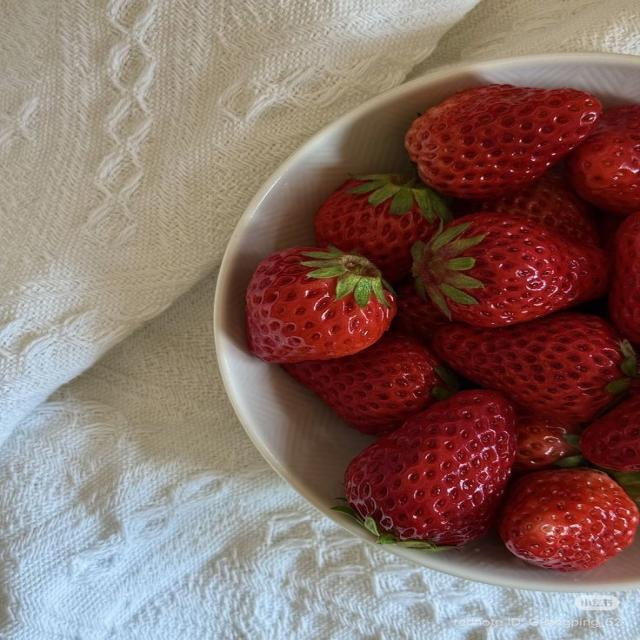strawberry: (345, 390, 514, 548), (432, 312, 636, 422), (413, 213, 610, 326), (406, 85, 601, 198), (283, 333, 456, 435), (246, 248, 396, 362), (314, 175, 452, 283), (500, 468, 639, 571), (463, 169, 600, 245), (567, 105, 639, 215), (580, 394, 639, 471), (609, 213, 639, 343), (514, 413, 580, 472), (392, 281, 450, 344), (596, 213, 625, 255)
